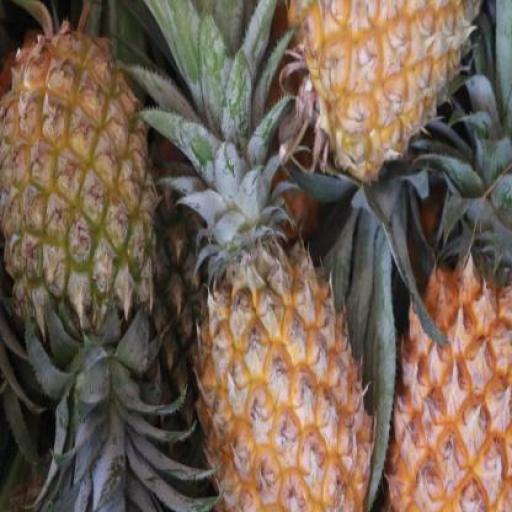------------------------------: (0, 25, 156, 319)
Pineapple - v8 v1: (195, 215, 367, 512), (385, 237, 512, 511), (290, 0, 480, 182)
